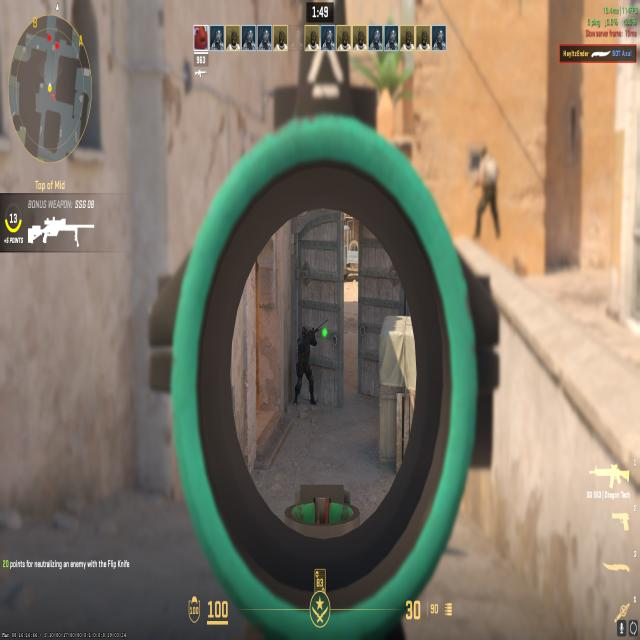ct: (290, 319, 318, 411)
t: (465, 140, 507, 245)
